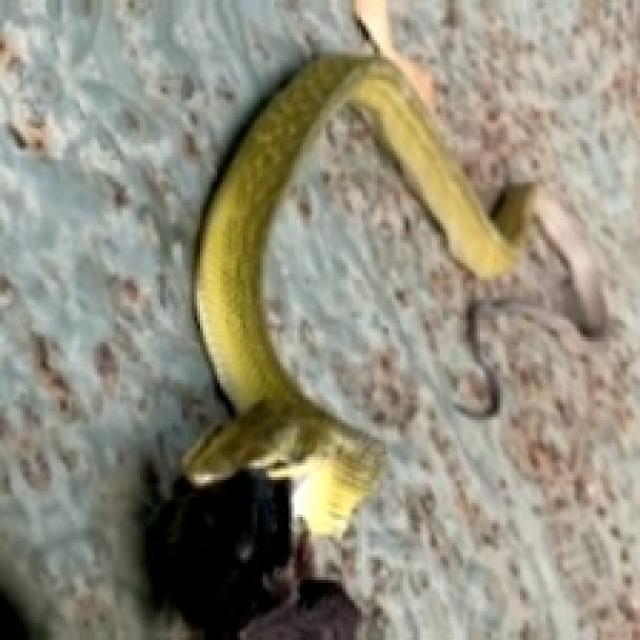red-tailed green ratsnake: (183, 54, 534, 534), (183, 54, 531, 534)
